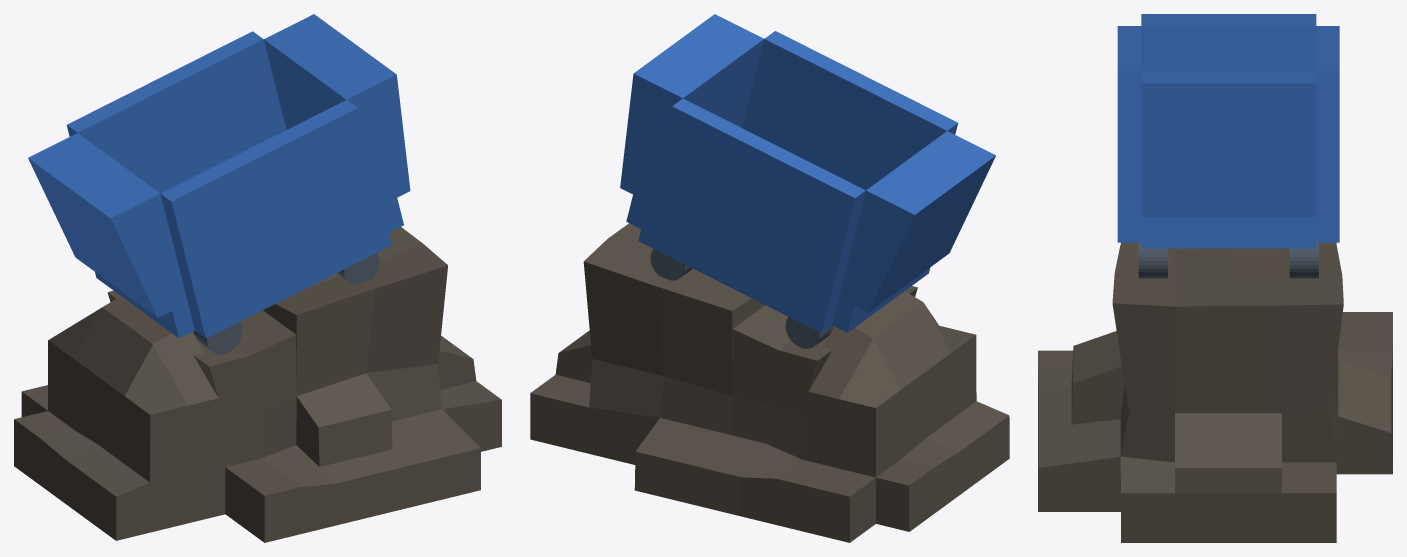
Rendered from minecart.gltf.
The picture shows the model from 3 angles, left to right: view 1: azimuth 30°, elevation 25°; view 2: azimuth 150°, elevation 25°; view 3: azimuth 270°, elevation 25°; orthographic projection. The views are drawn at different scales.
Parts seen in each view (by area): view 1: Cube.001, Cube, Cylinder.003, Cylinder.002; view 2: Cube.001, Cube, Cylinder.001, Cylinder; view 3: Cube.001, Cube, Cylinder.002, Cylinder.
Boxes of the visible parts, x1,y1,x2,y2 form: Cube.001: (14, 227, 501, 542); Cube: (28, 14, 410, 338); Cylinder.003: (193, 322, 242, 354); Cylinder.002: (336, 253, 379, 285); Cube.001: (530, 223, 1009, 542); Cube: (620, 14, 995, 332); Cylinder.001: (785, 317, 833, 348); Cylinder: (650, 249, 692, 280); Cube.001: (1038, 242, 1392, 542); Cube: (1117, 14, 1339, 248); Cylinder.002: (1138, 242, 1167, 278); Cylinder: (1289, 242, 1318, 278).
Bounding box in the file's own units: 4.37 × 4.2 × 3.29.
